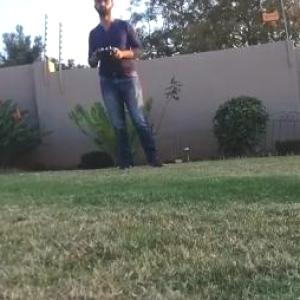follow: (84, 0, 172, 175)
